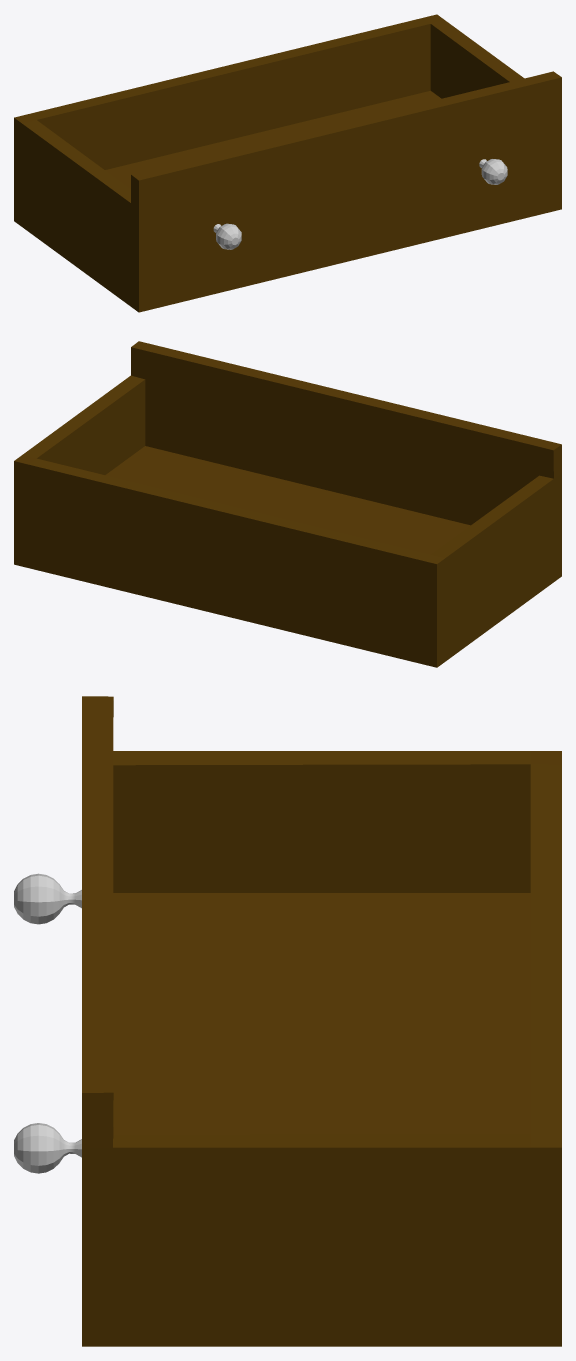
File: Drawer_low.fbx
3 views of the same model, one above another, from view 1: azimuth 30°, elevation 25°; view 2: azimuth 150°, elevation 25°; view 3: azimuth 270°, elevation 25° (orthographic). The views are drawn at different scales.
Visible parts, largest first — view 1: Draw_low; view 2: Draw_low; view 3: Draw_low.
Boxes of the visible parts, bbox=[...] form: Draw_low: bbox=[14, 14, 561, 312]; Draw_low: bbox=[14, 341, 561, 667]; Draw_low: bbox=[14, 696, 561, 1346].
Bounding box in the file's own units: 98.24 × 29.3 × 57.35.
